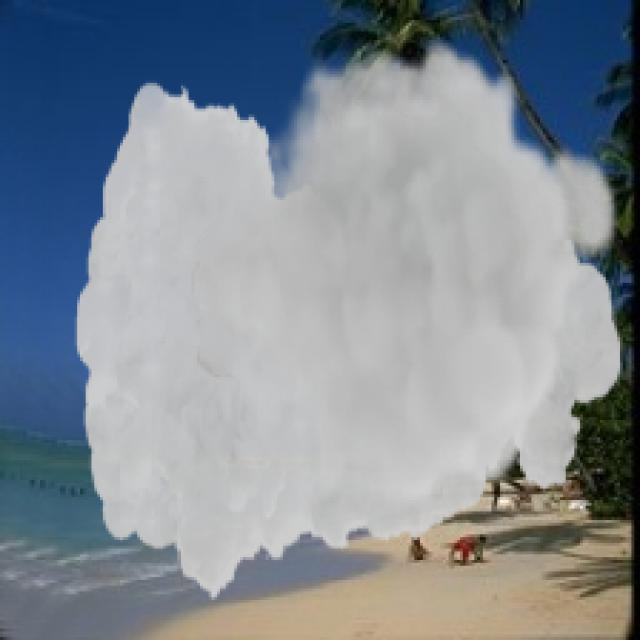smoke: (74, 37, 623, 603)
